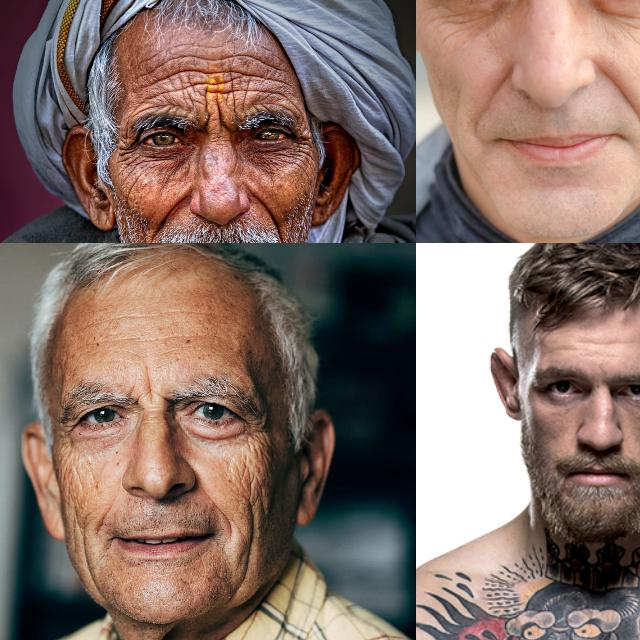crows_feet: (241, 414, 269, 451), (290, 130, 314, 162), (116, 135, 142, 163), (421, 0, 445, 9)
forehead: (247, 82, 297, 115), (208, 51, 248, 81), (119, 331, 178, 351), (252, 49, 284, 85), (141, 90, 179, 116), (183, 300, 219, 326), (576, 332, 632, 348), (141, 49, 167, 82), (197, 88, 231, 112), (121, 310, 169, 326), (175, 54, 202, 82), (545, 337, 577, 358)
frown_line: (200, 107, 232, 139), (138, 369, 160, 403)
gummy_smile: (604, 66, 636, 114), (254, 193, 284, 231), (154, 195, 184, 233), (484, 68, 512, 102), (208, 494, 236, 528)
masseter: (236, 498, 266, 570), (74, 517, 100, 577), (230, 454, 268, 488), (58, 448, 84, 490), (118, 174, 142, 203)
